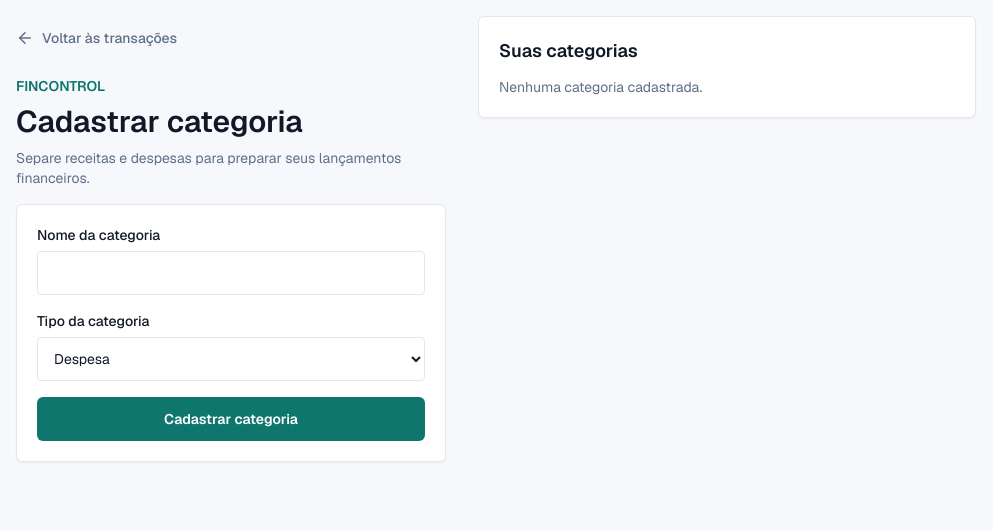
CategoriesPage › creates through the injected server flow and lists the result
Type "Alimentação" into the field labelled "Nome da categoria".
click(231, 273); type("Alimentação")  # box [37,251,425,295]
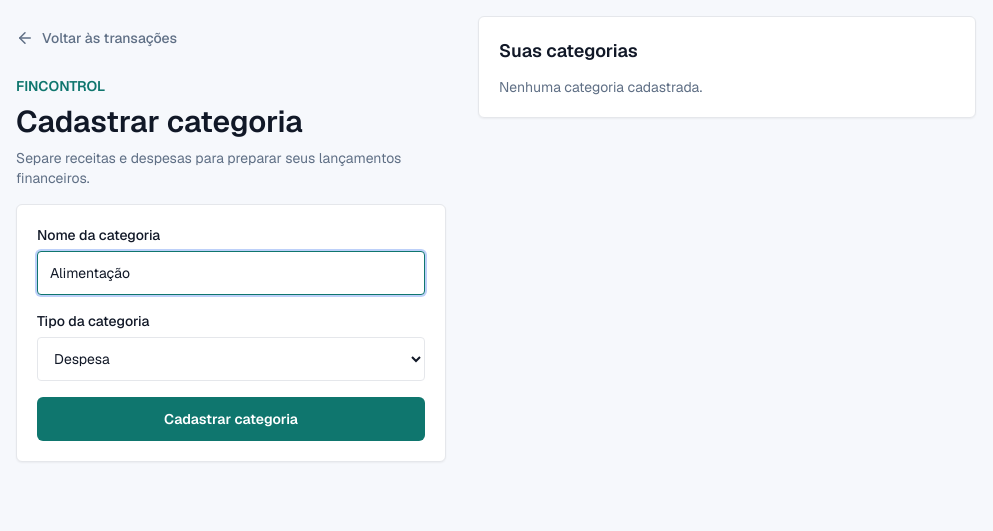
Select "Despesa" in the dropdown labelled "Tipo da categoria" at (231,359), box [37,337,425,381]
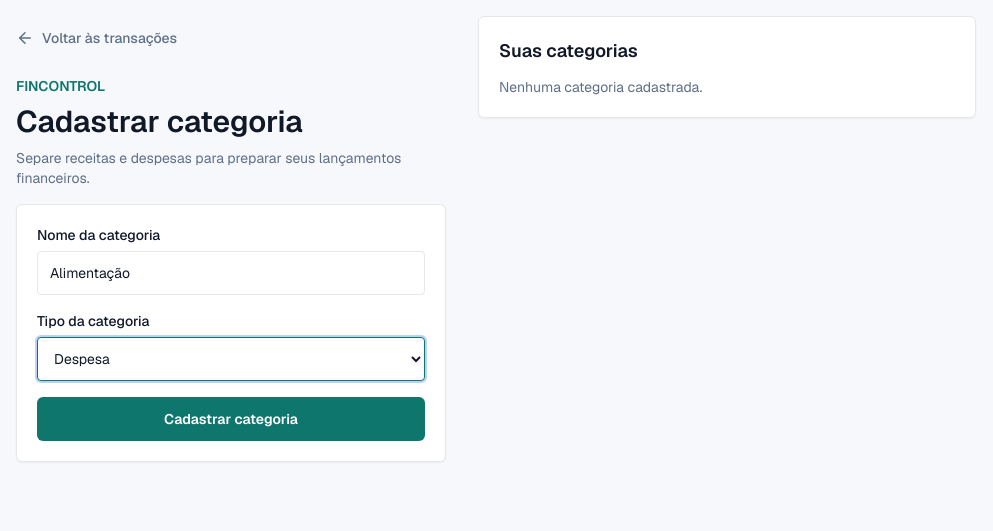
Click the button "Cadastrar categoria".
click(231, 419)  # box [37,397,425,441]
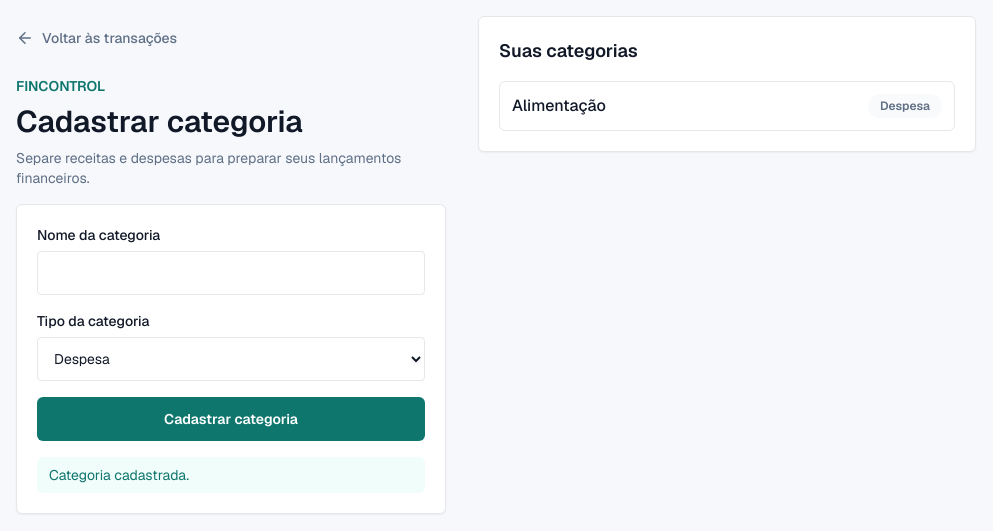
expect the text "Alimentação" is shown: met, box [512,94,606,118]
expect the text "Despesa" is shown: met, box [868,94,942,118]
